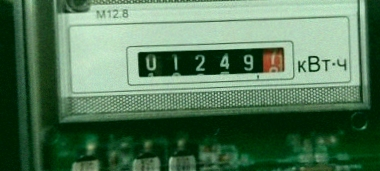0: (144, 51, 157, 71)
1: (169, 51, 179, 70)
2: (193, 52, 206, 72)
4: (218, 51, 229, 70)
7: (266, 46, 278, 65)
9: (241, 51, 254, 72)
screen: (118, 38, 293, 85)
